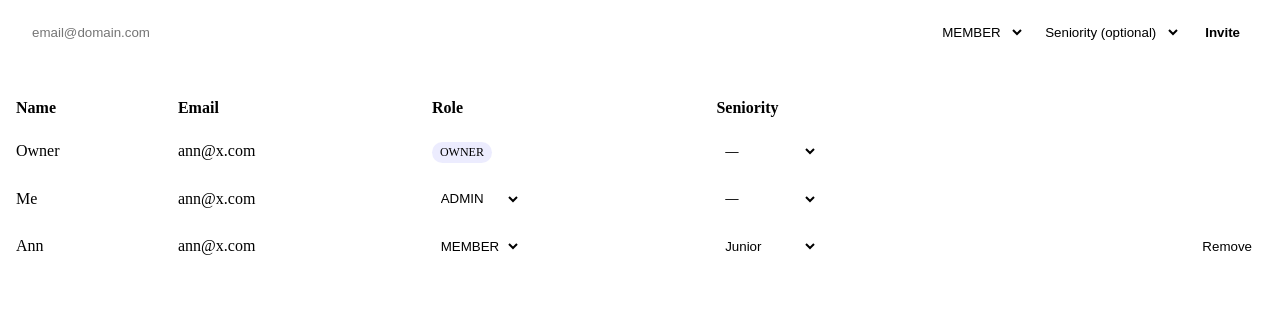
Test: MembersPanel › shows an error when inviting fails
In the field with placeholder "email@domain.com": (473, 32) [24,17,922,48], type "new@x.com"
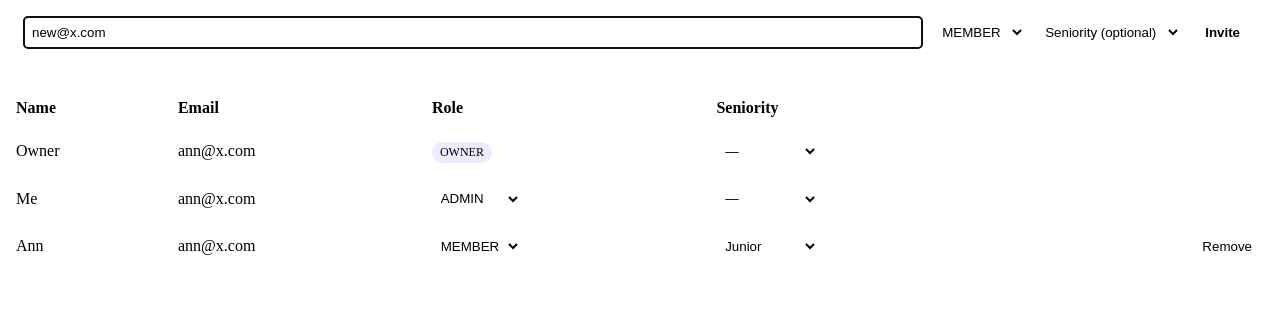
Click the button "Invite": (1223, 32) [1189,17,1256,48]
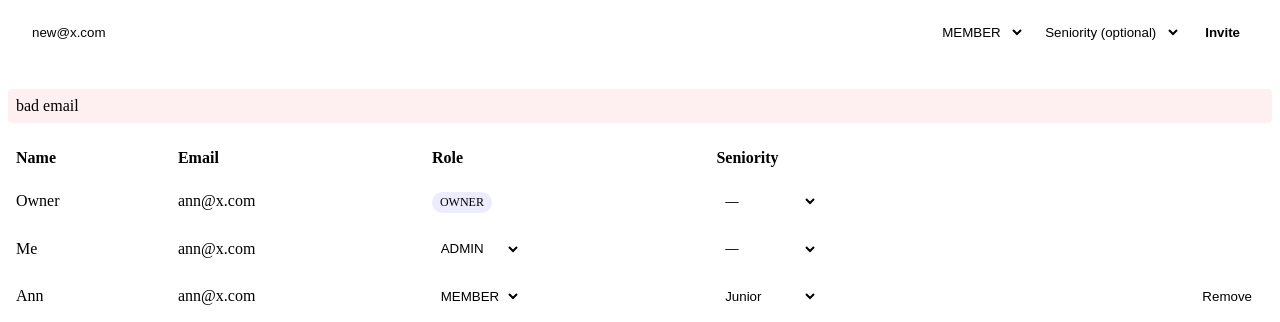
Expected: the text "bad email" is shown, [8,89,1272,123]
